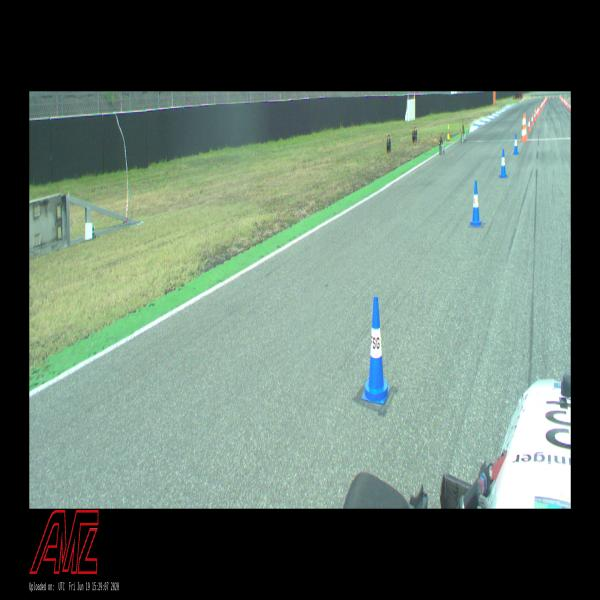blue_cone: (362, 297, 390, 405), (470, 181, 482, 226), (499, 149, 507, 178), (514, 133, 518, 154)
large_orange_cone: (521, 114, 526, 142), (524, 113, 528, 139)
orange_cone: (527, 118, 531, 132), (531, 113, 534, 126)
yellow_cone: (447, 125, 450, 138)
